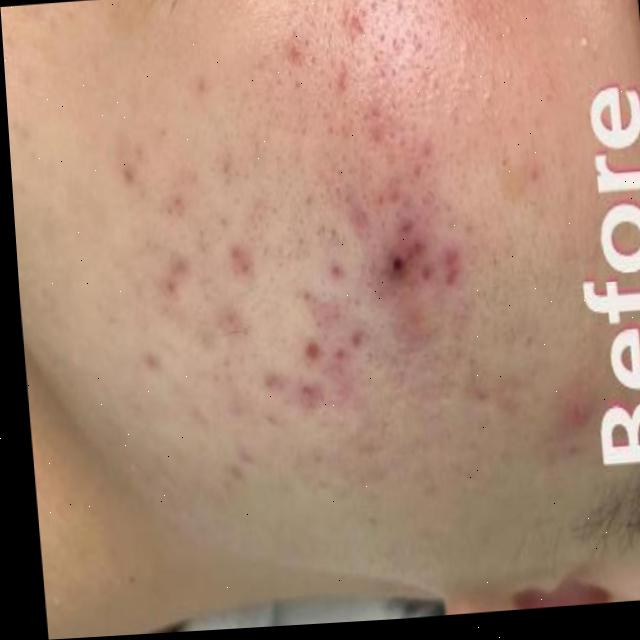Acne: (153, 39, 492, 476)
